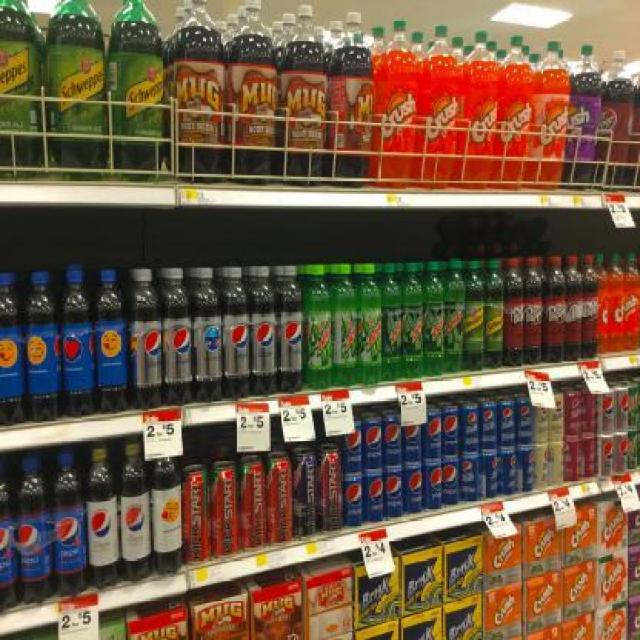Drinks: (594, 51, 634, 191), (15, 456, 50, 604), (50, 451, 85, 598), (86, 446, 120, 592), (128, 268, 162, 410), (119, 441, 152, 582), (191, 268, 224, 404), (160, 268, 192, 408), (249, 265, 277, 398), (224, 266, 250, 400), (277, 264, 303, 396), (304, 264, 331, 390), (332, 263, 356, 388), (357, 263, 381, 388), (422, 260, 446, 378), (542, 256, 566, 364), (401, 262, 422, 380), (445, 258, 466, 374), (502, 258, 524, 367), (382, 262, 401, 381), (523, 257, 543, 365), (0, 465, 15, 606), (565, 254, 584, 360), (582, 255, 600, 358), (342, 417, 363, 477), (362, 410, 382, 470), (402, 406, 422, 466), (382, 410, 402, 468), (363, 471, 383, 526), (384, 469, 404, 522), (342, 478, 363, 528), (423, 408, 442, 462), (458, 403, 478, 454), (403, 466, 423, 517), (422, 462, 442, 513), (478, 453, 498, 501), (441, 406, 459, 459), (478, 402, 497, 452), (515, 398, 534, 447), (497, 399, 515, 450), (595, 386, 614, 434), (563, 385, 580, 438), (442, 458, 460, 508), (460, 454, 478, 504), (516, 448, 535, 495), (498, 450, 516, 498), (595, 435, 614, 480), (564, 437, 581, 483), (548, 440, 564, 488), (548, 392, 564, 440), (534, 442, 549, 490), (580, 386, 595, 434), (614, 384, 629, 431), (580, 436, 595, 482), (614, 432, 628, 476), (533, 405, 549, 443)
